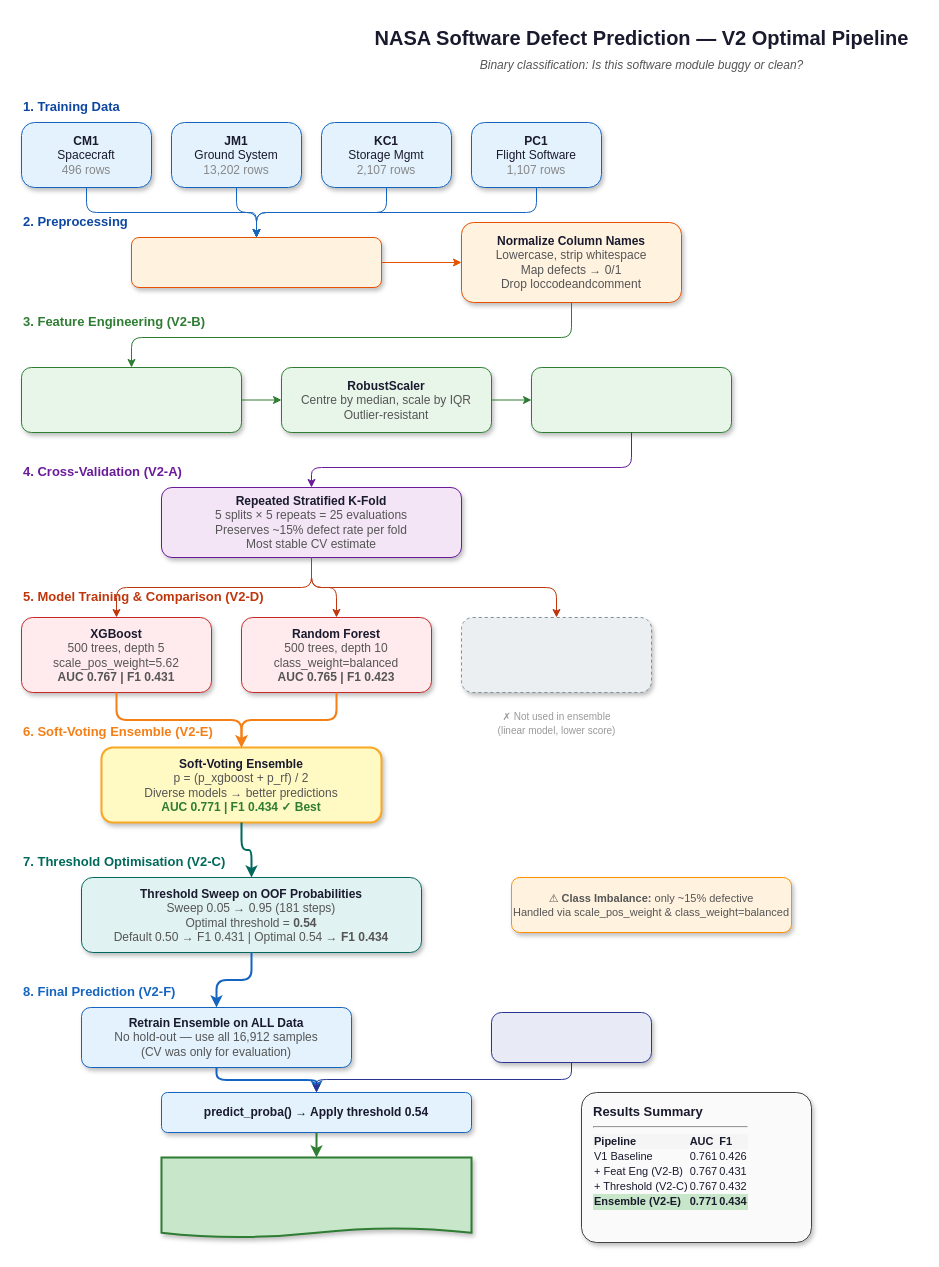
The diagram is 939 pixels wide and 1267 high, and some of its shapes have lost their labels. Here are the shapes that lost their labels. From the top down, the centre of each, then its label:
point 257,263: Concatenate All Datasets 16,912 rows × 21 features
point 132,401: log1p Transform Compress skewed metrics (e.g. Halstead effort 1→870k)
point 632,401: Interaction Features ratio_ev_vg = ev(g)/v(g) ratio_loc_n = loc/n
point 557,656: Logistic Regression Linear baseline class_weight=balanced AUC 0.715 | F1 0.358
point 572,1039: KC2 Blind Test 522 rows, no labels
point 317,1198: predictions_SPMT.csv id, defects (0 or 1) 124 buggy (23.8%) | 398 clean (76.2%)
